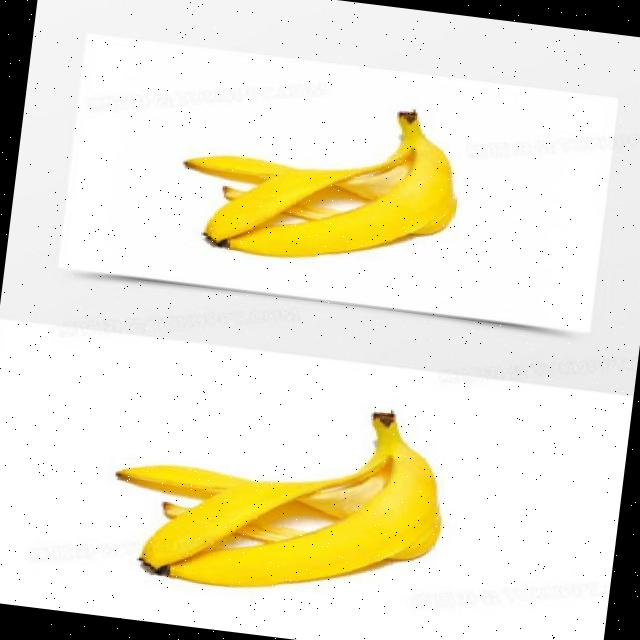banana-peel: (102, 376, 454, 612), (172, 80, 467, 278)
